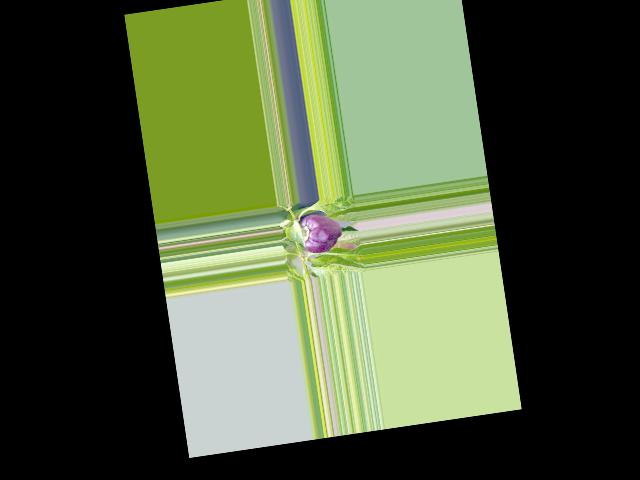bell_pepper: (294, 210, 346, 257)
